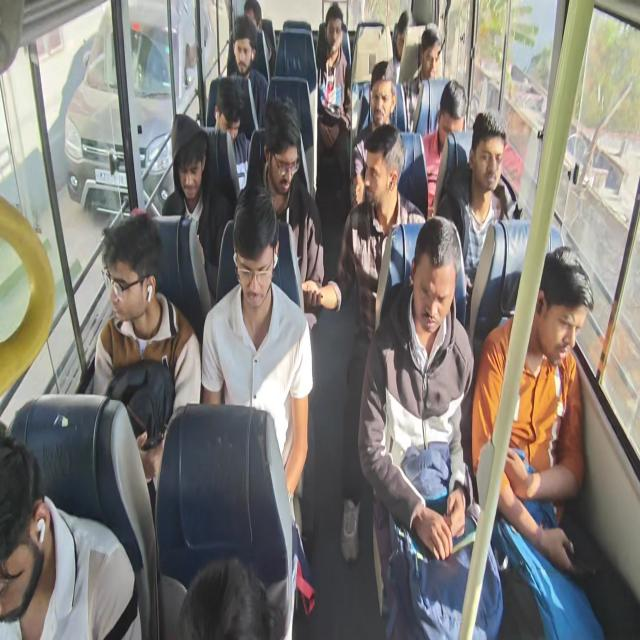person: (0, 438, 59, 618), (102, 215, 174, 342), (529, 245, 582, 374), (353, 130, 414, 230), (409, 217, 455, 337), (233, 208, 280, 312), (258, 119, 302, 201), (172, 113, 206, 208), (472, 113, 508, 199), (436, 84, 470, 155), (207, 84, 240, 140), (417, 30, 445, 94), (320, 7, 352, 60), (363, 70, 396, 121), (392, 8, 418, 61), (234, 38, 262, 80), (244, 3, 271, 39)
